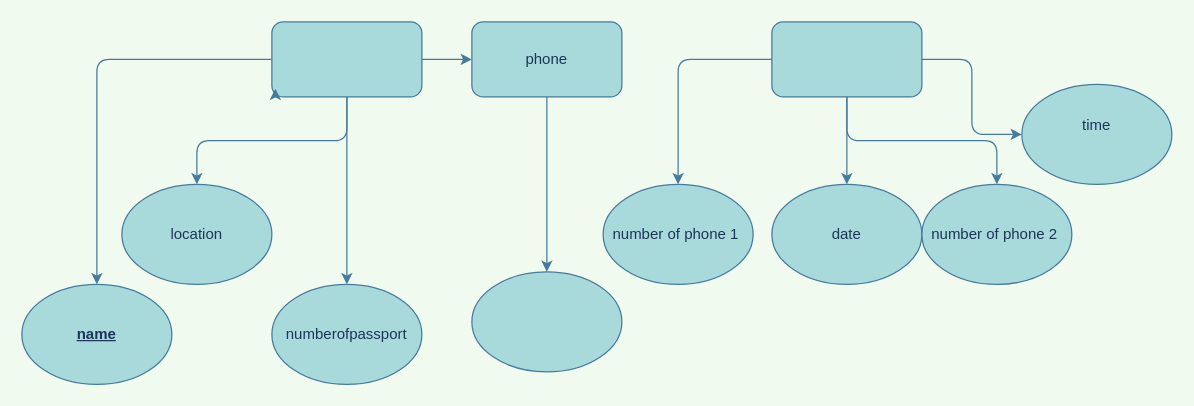
This 1194x406 diagram has some shape labels left out. The shapes that lost their labels are listed below. From the top down, each one's centre as x and y in pixels, then its label:
pixel 346 59: customer
pixel 846 59: calls
pixel 546 321: numbers of phones
